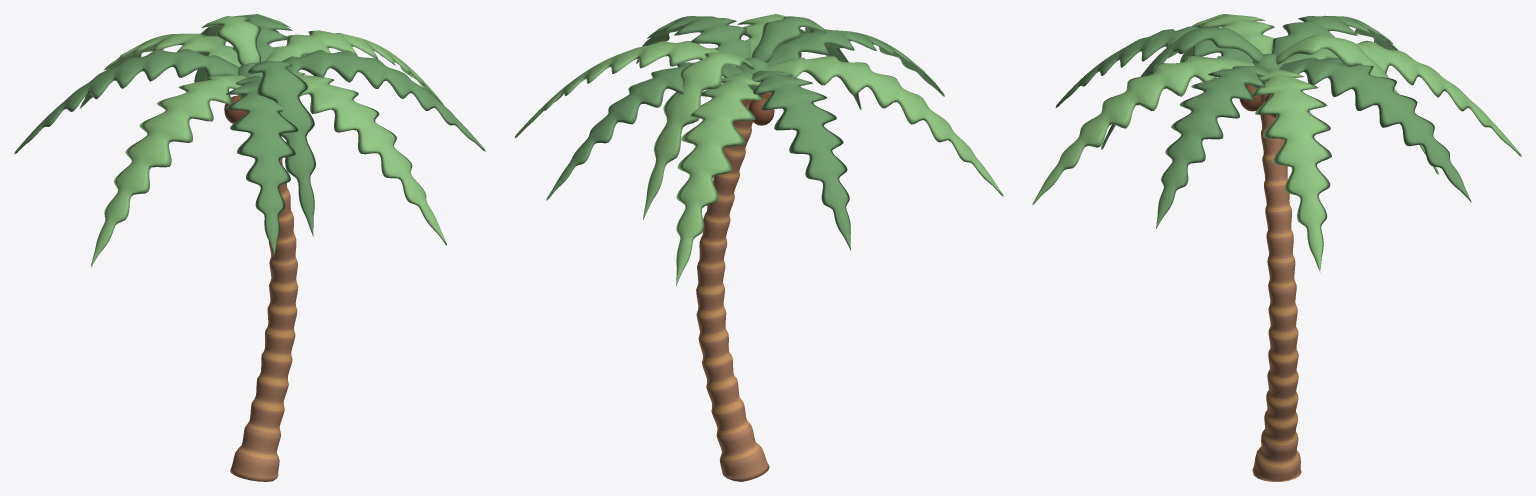
The model's file is tree-palm.glb.
3 views of the same model, side by side, from view 1: azimuth 30°, elevation 25°; view 2: azimuth 150°, elevation 25°; view 3: azimuth 270°, elevation 25° (orthographic).
Parts seen in each view (by area): view 1: palm-tree_body; view 2: palm-tree_body; view 3: palm-tree_body.
Part boxes in pixels (bbox=[...]): palm-tree_body: bbox=[14, 14, 485, 481]; palm-tree_body: bbox=[514, 14, 1003, 481]; palm-tree_body: bbox=[1032, 14, 1521, 481].
Bounding box in the file's own units: 5.18 × 5.09 × 5.18.
1 material, 1 textured.
